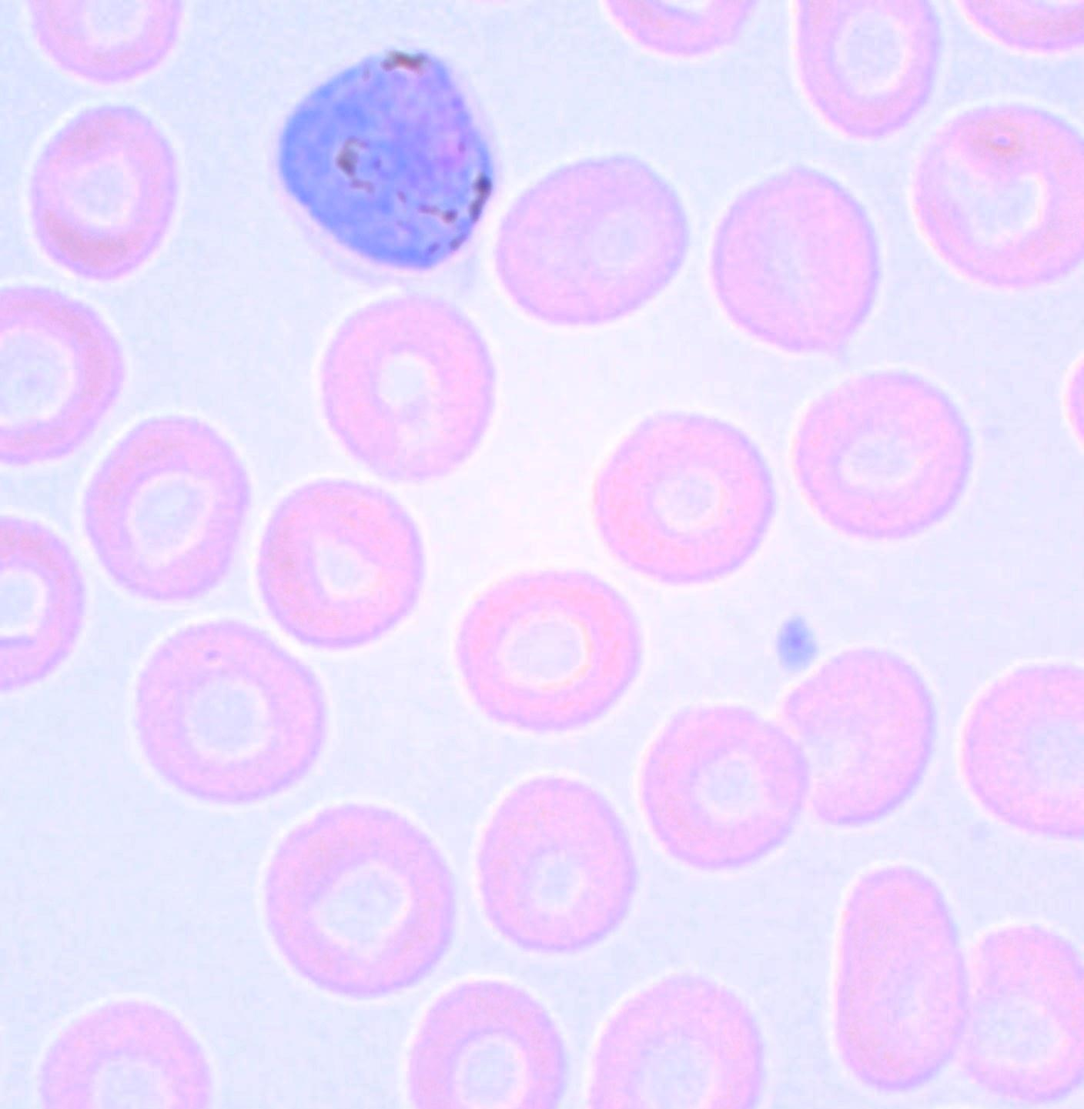Infected: (279, 47, 497, 269)
Uninfected: (261, 799, 459, 998), (135, 618, 325, 807), (495, 155, 694, 325), (320, 296, 495, 480), (594, 411, 777, 585), (85, 414, 253, 603), (832, 863, 969, 1093), (709, 167, 879, 352), (455, 566, 640, 733), (915, 99, 1078, 287), (794, 366, 970, 540), (474, 774, 635, 954), (258, 479, 427, 648), (639, 703, 808, 868), (779, 648, 934, 827), (28, 100, 179, 280), (958, 917, 1079, 1100), (795, 1, 942, 139)
